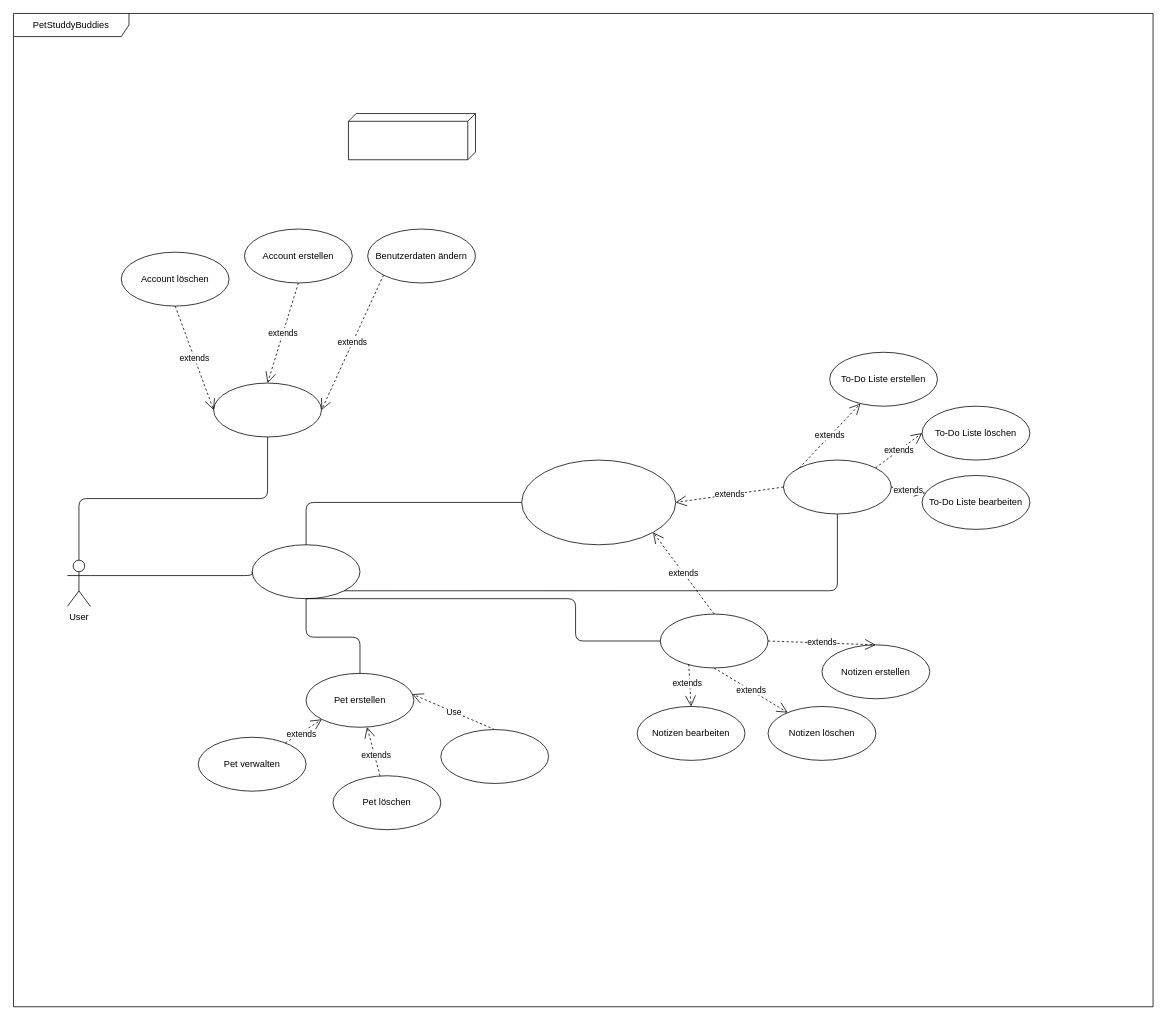
Some shapes in this 1167 by 1020 pixel diagram are drawn without their labels. The centre of each missing label's shape, as x and y in pixels:
"Account verwalten" belongs at point (267, 409).
"Emotion setzen" belongs at point (494, 756).
"in Account einloggen" belongs at point (305, 571).
"Inhalte an andere Nutzer/User teilen/freigeben/zuteilen" belongs at point (598, 502).
"Notizen verwalten" belongs at point (714, 640).
"To-Do Liste verwalten" belongs at point (837, 486).
"Ziele erreicht? -->Bedingung" belongs at point (411, 136).
